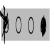correct: (40, 13, 47, 38)
not correct: (0, 4, 11, 46)
